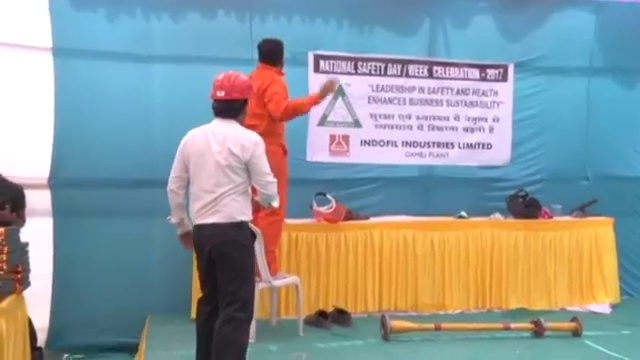helmet: (207, 69, 256, 102)
helmet_off: (256, 34, 284, 76)
helmet_on: (207, 70, 258, 125)
person: (165, 71, 275, 360), (245, 34, 337, 273)
